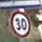limite 30: (9, 9, 31, 38)
